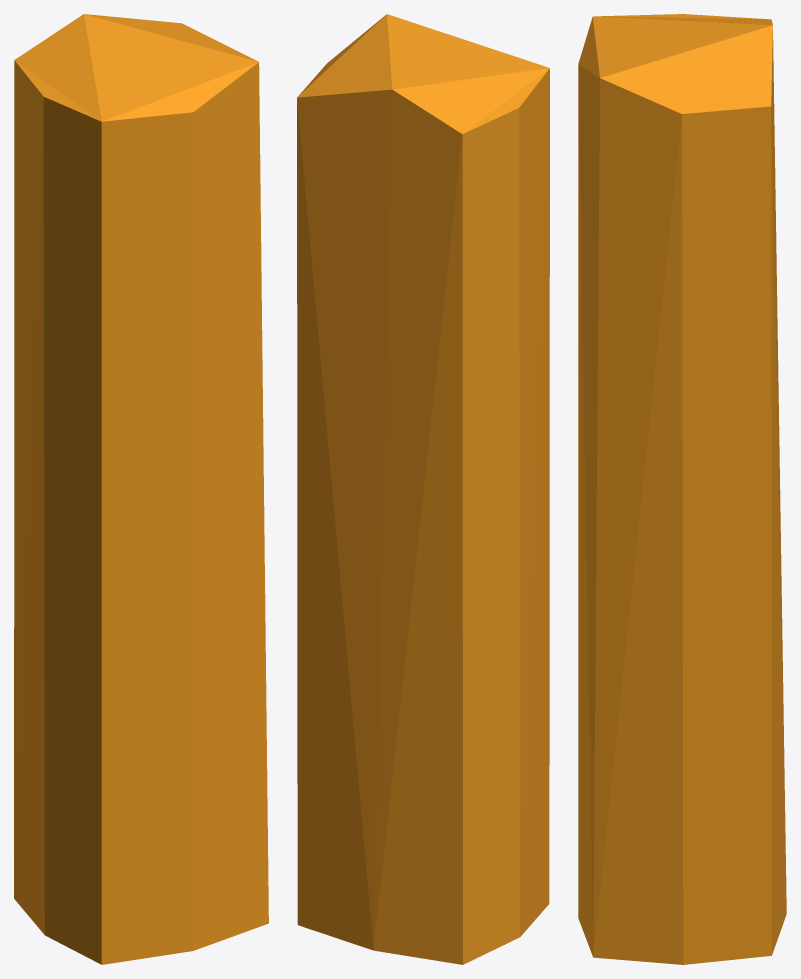
The model's file is SM_Icon_Letter_I_01.fbx.
3 views of the same model, side by side, from view 1: azimuth 30°, elevation 25°; view 2: azimuth 150°, elevation 25°; view 3: azimuth 270°, elevation 25° (orthographic). The views are drawn at different scales.
Parts seen in each view (by area): view 1: SM_Icon_Letter_I_01; view 2: SM_Icon_Letter_I_01; view 3: SM_Icon_Letter_I_01.
Boxes of the visible parts, <box> form: SM_Icon_Letter_I_01: <box>14,14,268,964</box>; SM_Icon_Letter_I_01: <box>297,14,549,964</box>; SM_Icon_Letter_I_01: <box>578,14,786,964</box>.
Size of the model in its own units: 12.51 by 53.41 by 11.39.
